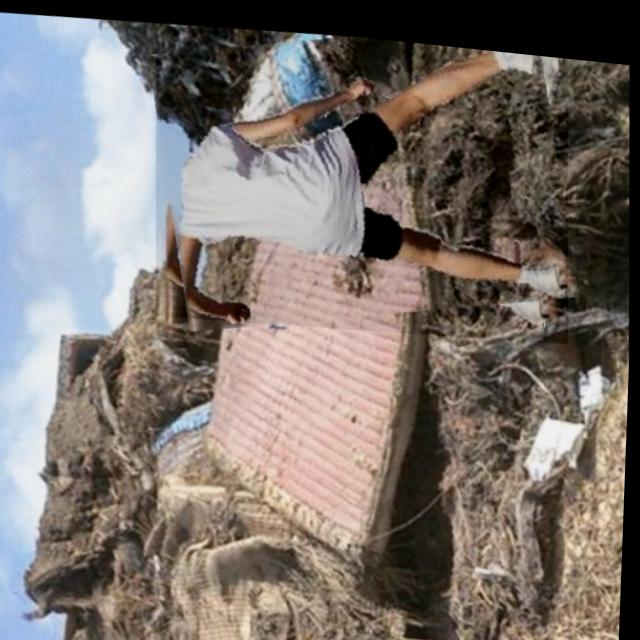Person in Rubble: (147, 13, 578, 344)
